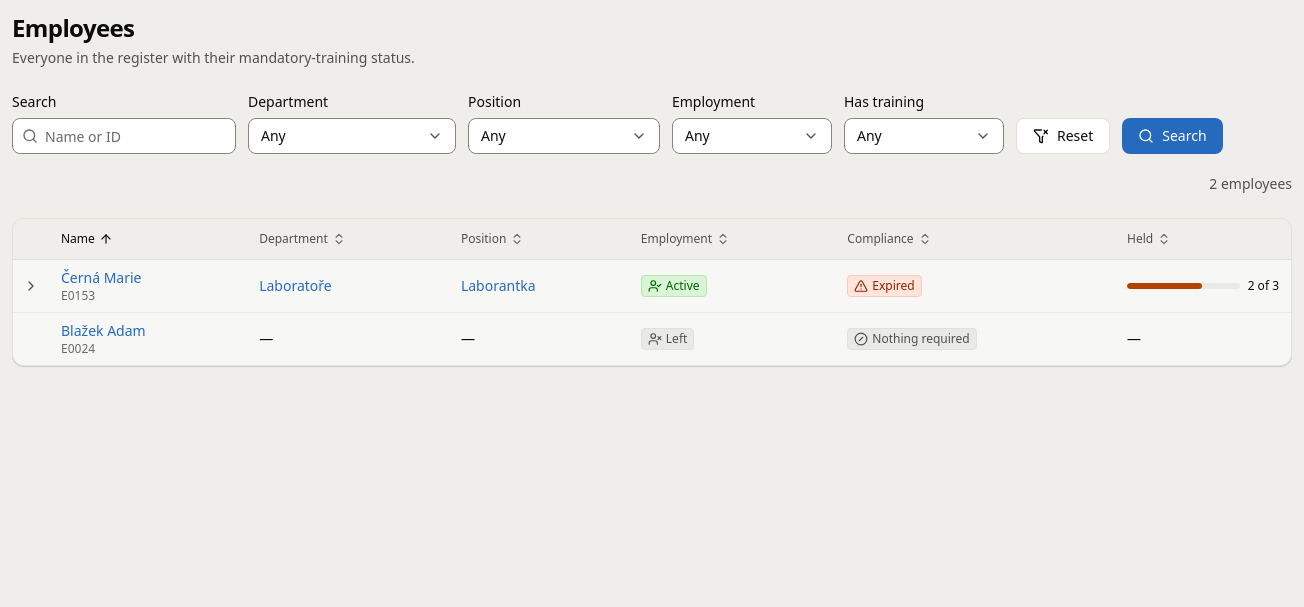
it: employee list › opens a row to the person’s trainings, expiry and bookings
Check: the text "Left" is shown, box [641,328,694,350]
Click the button named "Details for Černá Marie" at (31, 286), box [17,272,45,300]
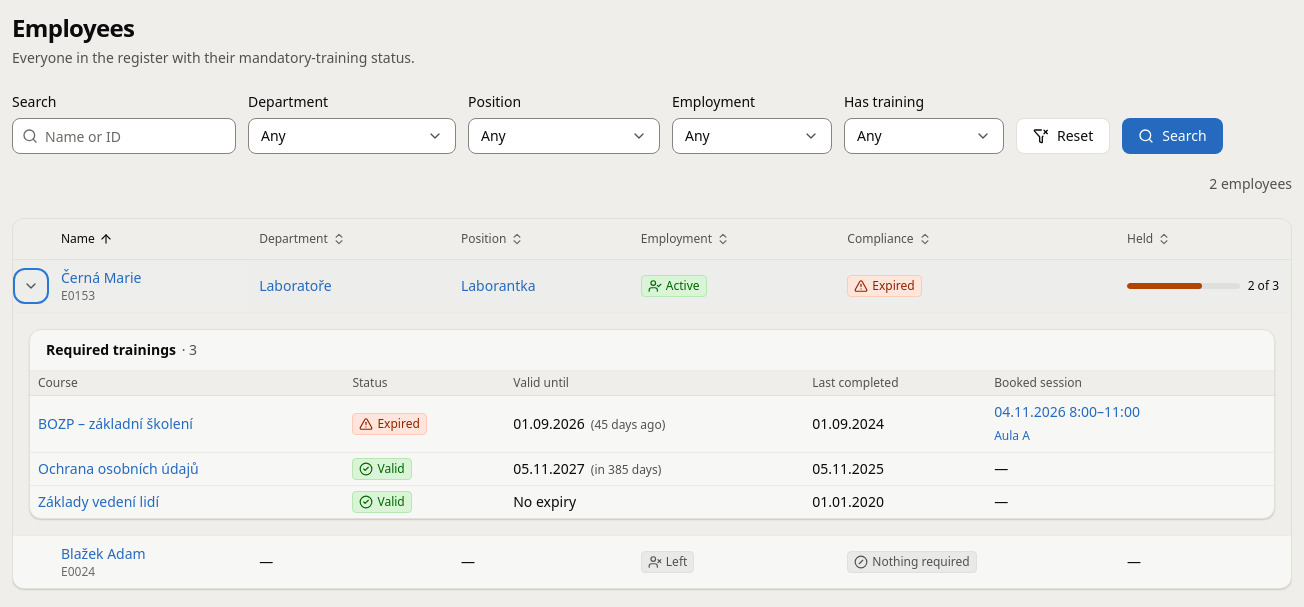
Check: the text "2 of 3" is shown, box [1248,278,1279,294]
Check: the text "(45 days ago)" is shown, box [591,416,665,433]
Check: the text "No expiry" is shown, box [505,486,804,518]
